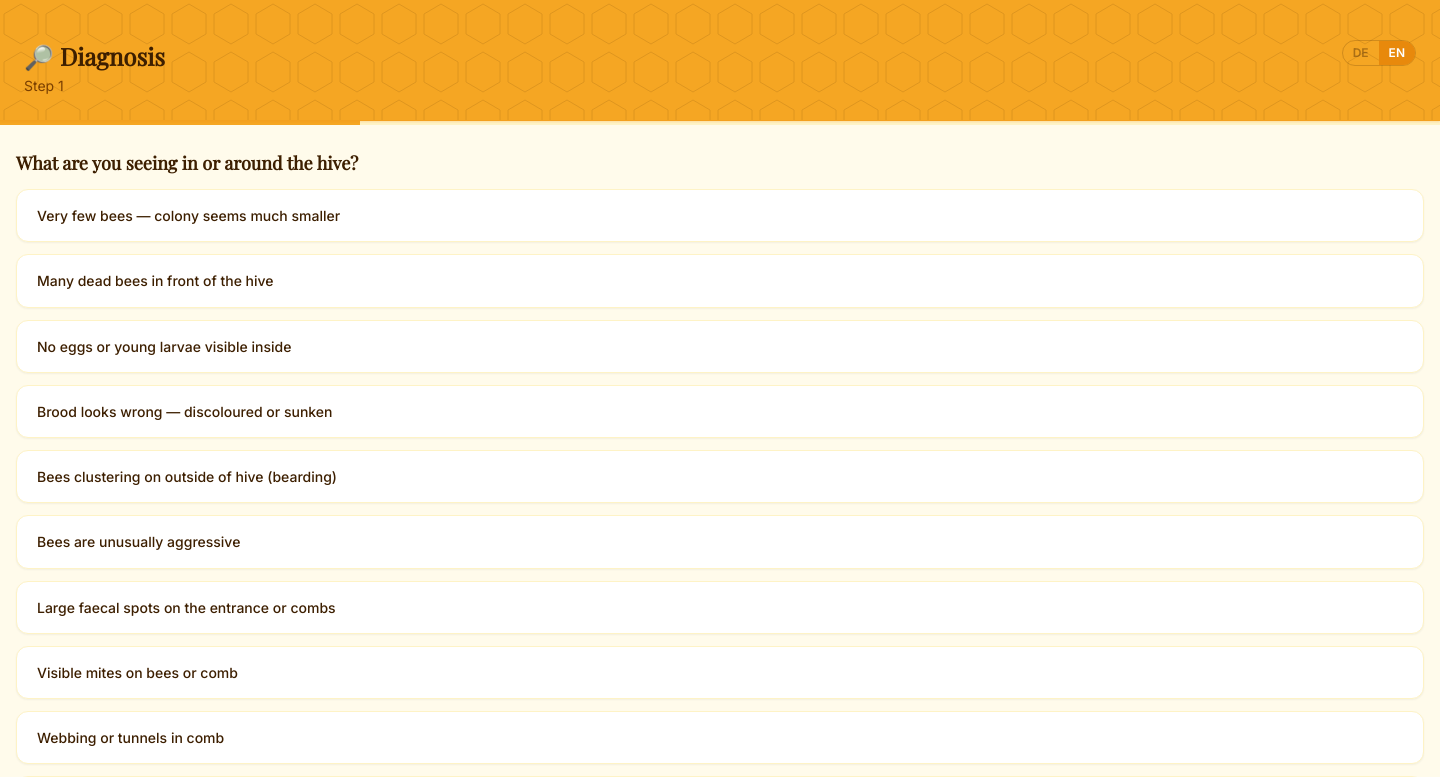
Test: DiagnoseScreen › resets to the root question when start over is clicked
Click the button "Very few bees — colony seems much smaller" at (189, 216), box [16,189,1424,242]
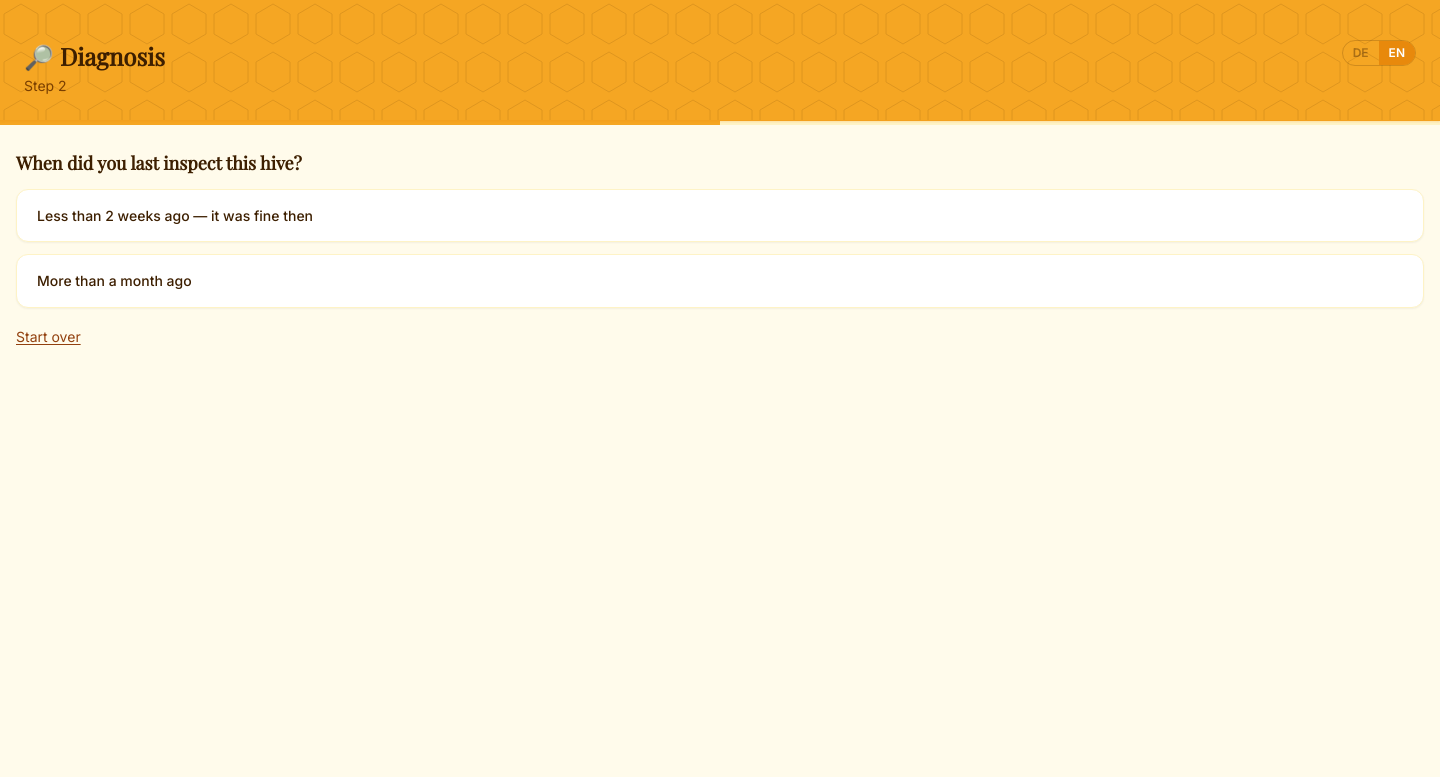
Click the button "Start over" at (48, 336), box [16,326,81,346]
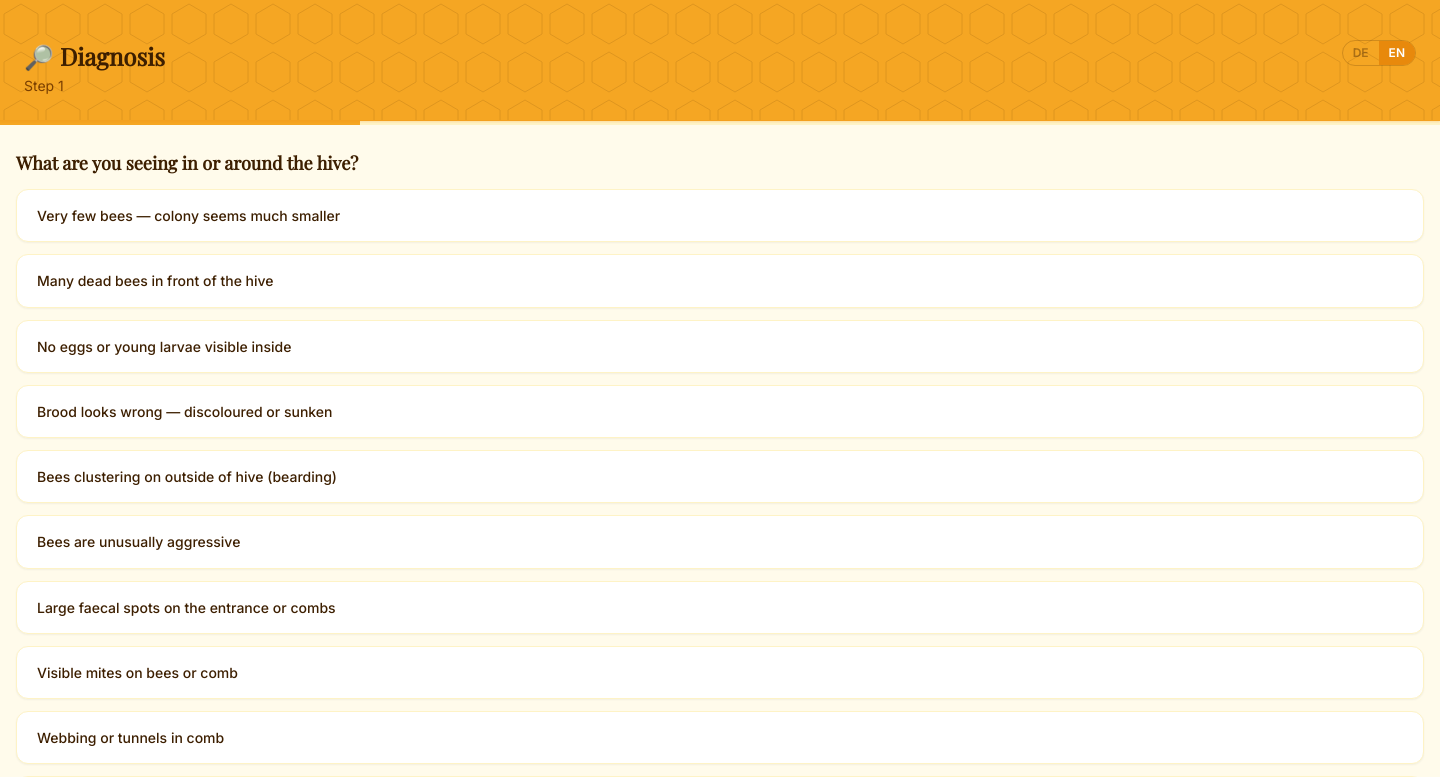
Result: the heading "What are you seeing in or around the hive?" is shown at [16,151,358,175]
